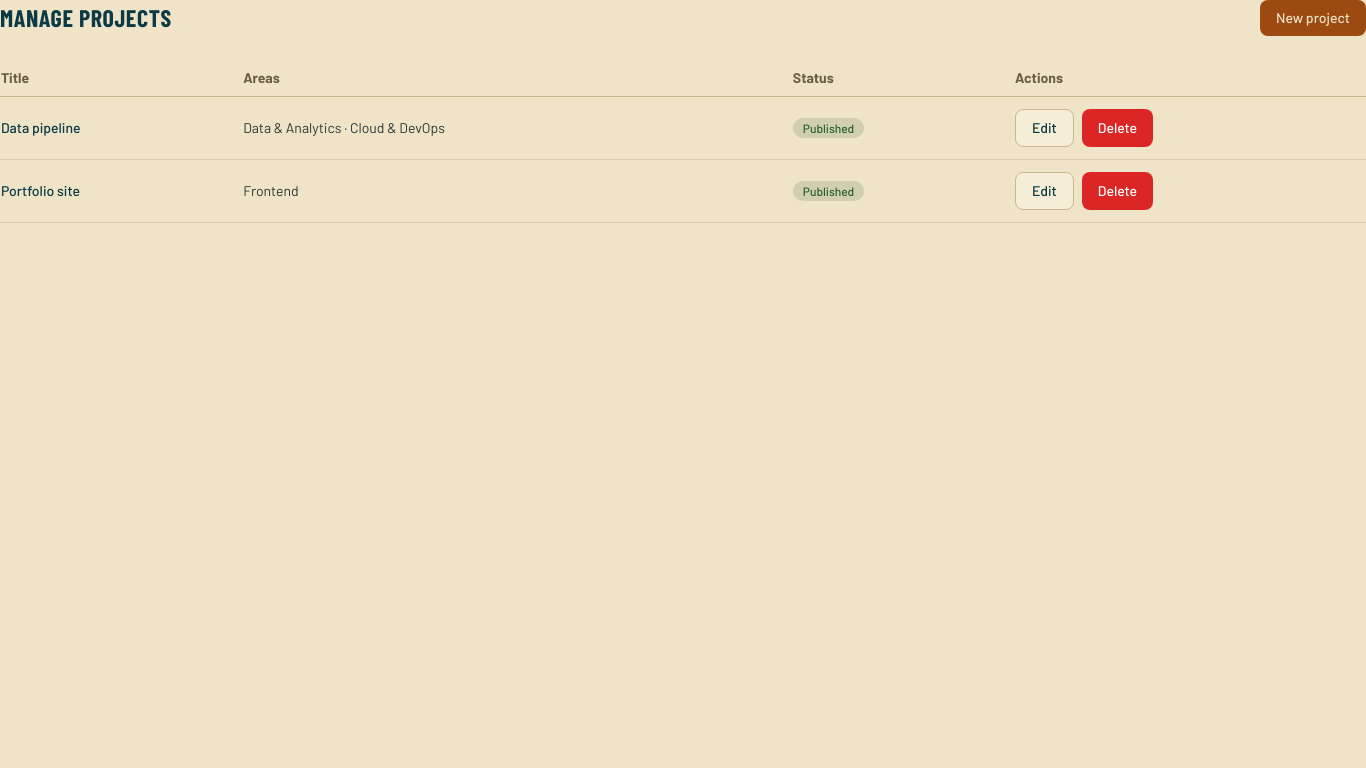
Test: AdminProjects › shows an alert when the deletion fails
Expected: the text "Data pipeline" is shown, [0, 96, 242, 160]
Click the button with aria-label "Delete Data pipeline" at (1117, 128), box [1082, 109, 1153, 147]
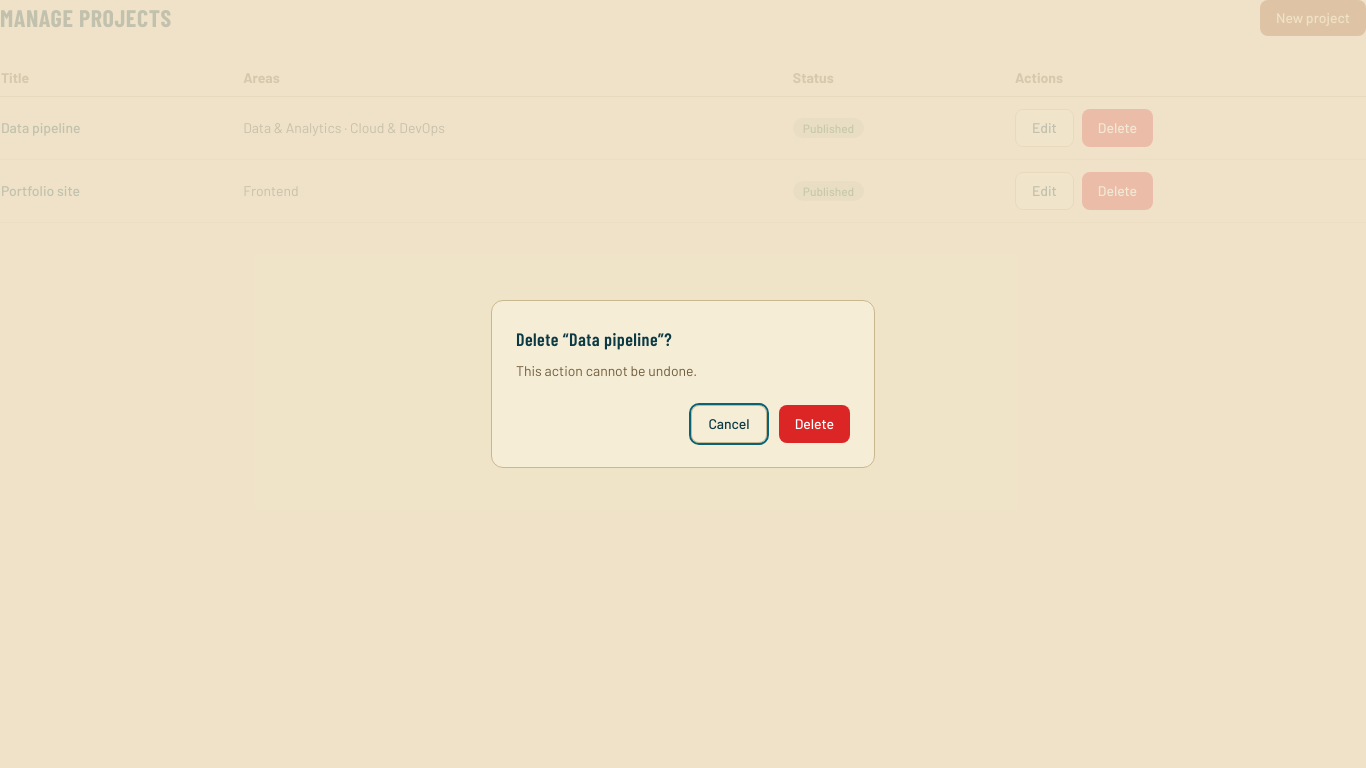
Click the button "Delete" at (814, 424), box [779, 405, 850, 443]
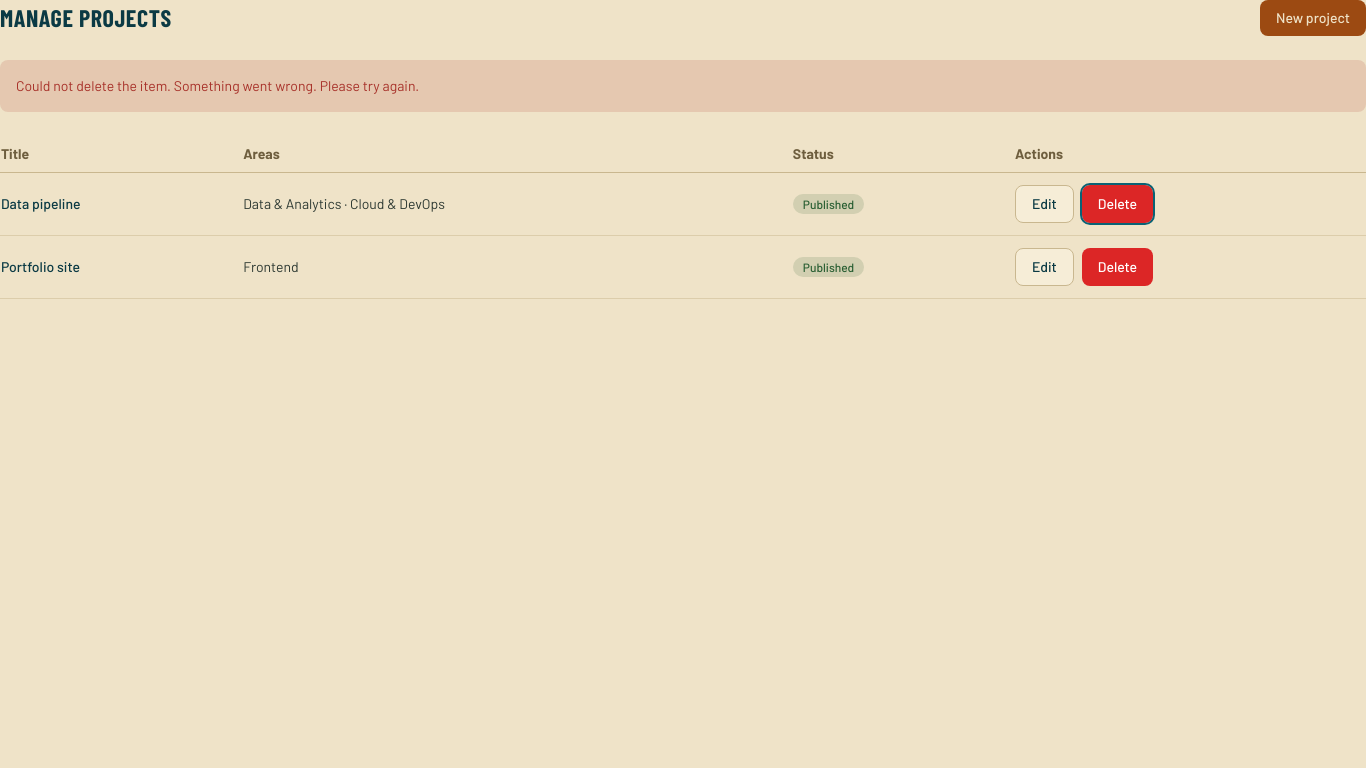
Expected: the text "Data pipeline" is shown, [0, 172, 242, 236]
Now the message shows "Could not delete the item.", box [16, 77, 171, 94]
